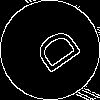D: (25, 25, 83, 81)
